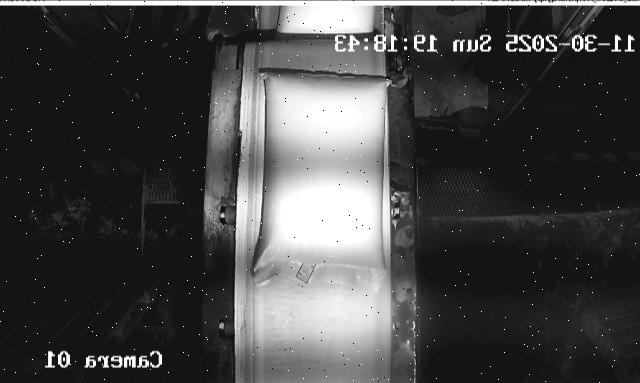bag: (252, 72, 388, 286), (273, 6, 372, 40)
